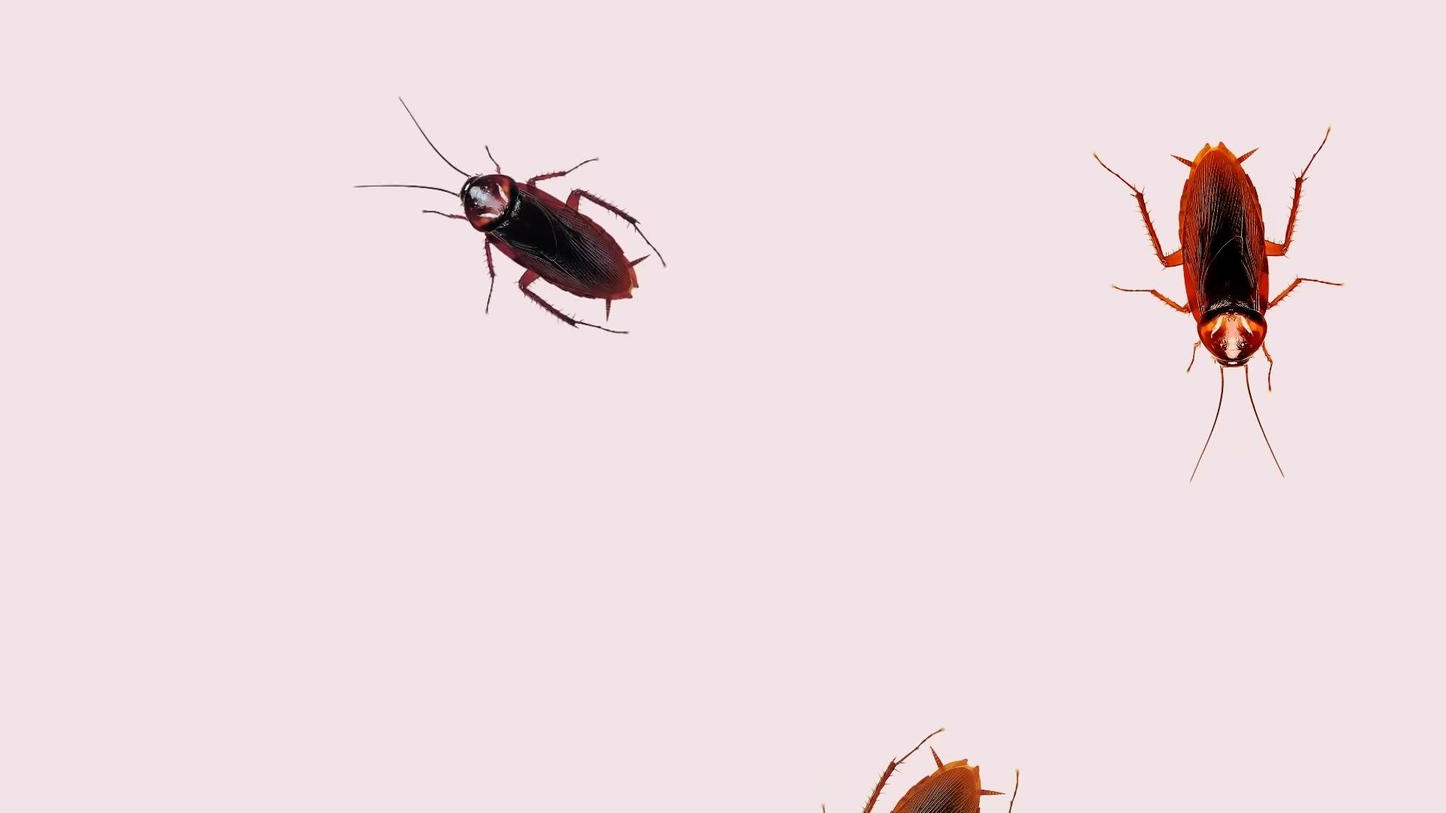cockroach: (1085, 111, 1337, 485), (348, 92, 665, 341), (800, 715, 1023, 813)
